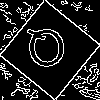Q: (25, 25, 69, 77)
